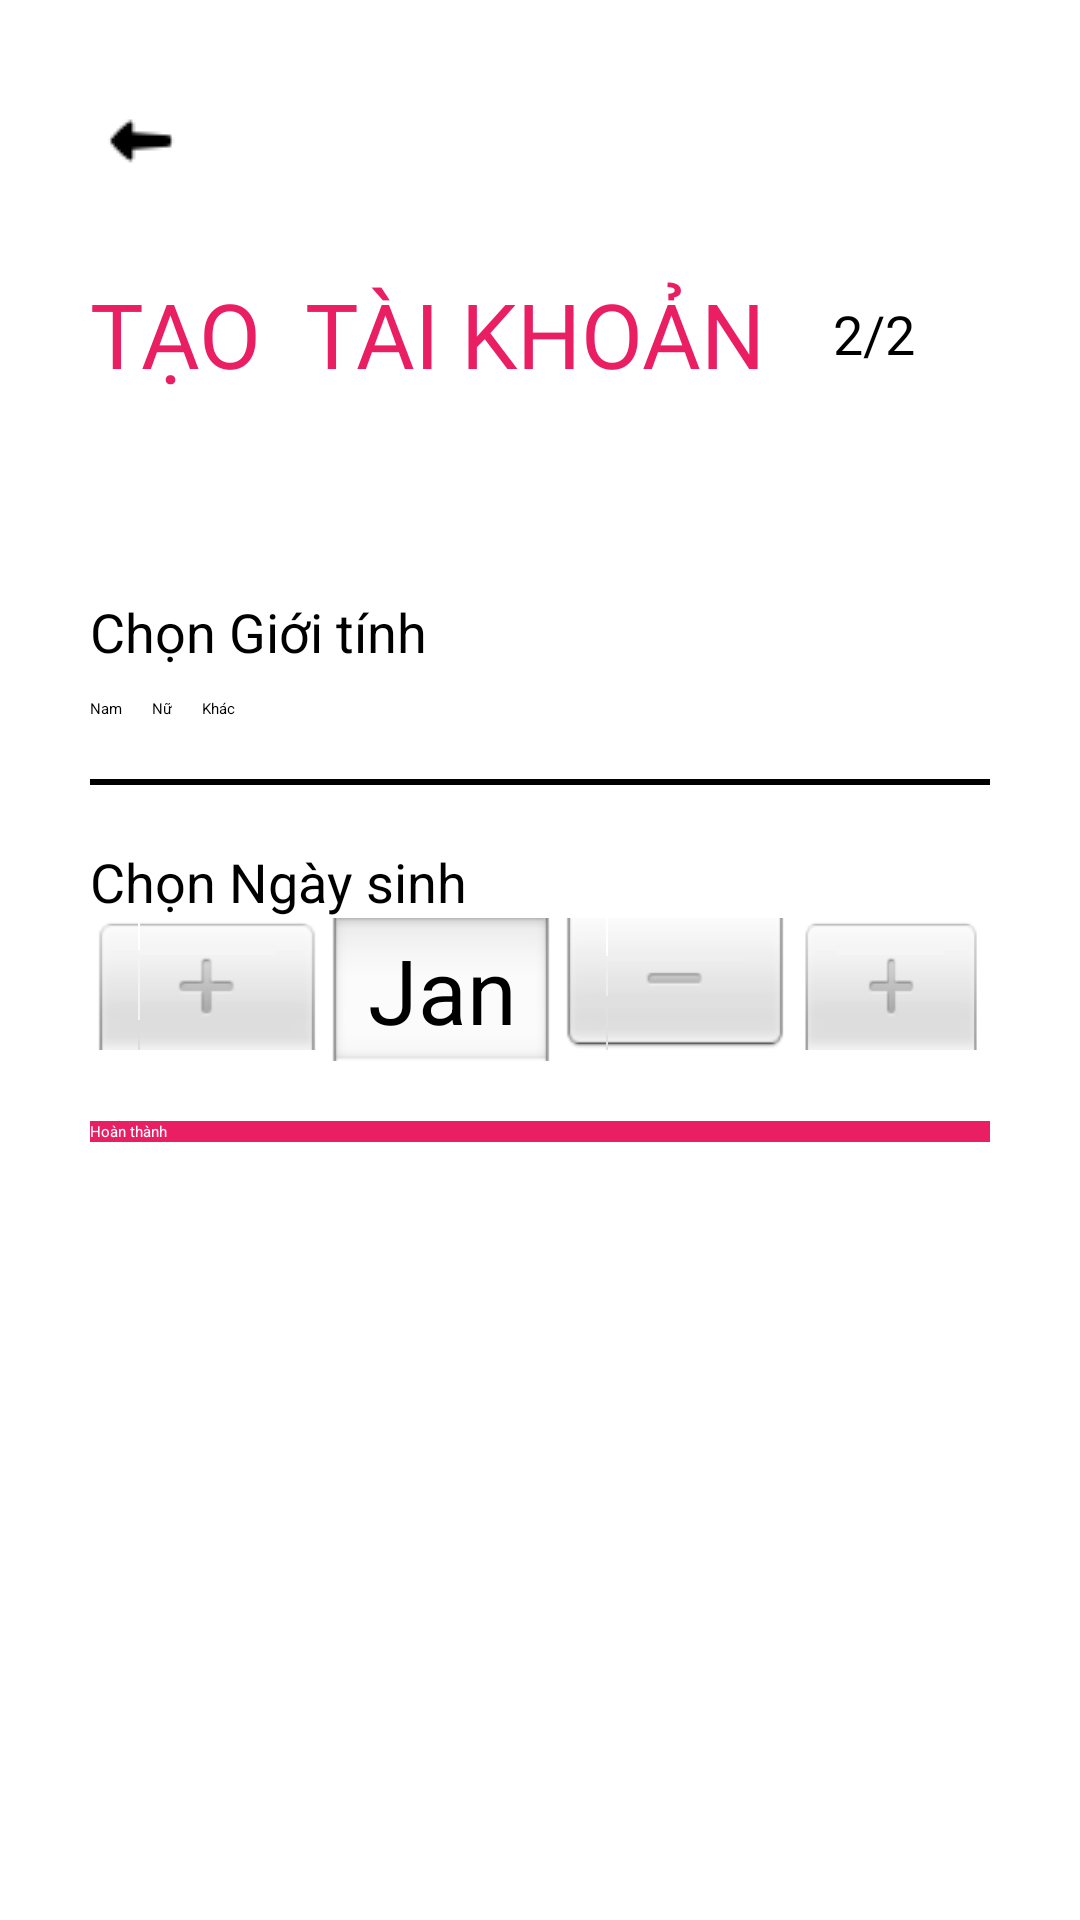

Named icons in this screenshot (1080px x 1920px) and their bounding boxes, {"left": x1, "top": y1, "right": x2, "bottom": y2}:
left arrow: {"left": 110, "top": 119, "right": 172, "bottom": 163}
